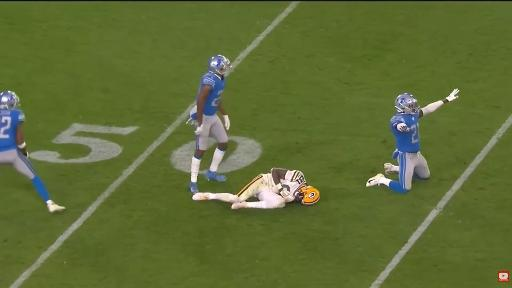Helmet: (395, 94, 419, 114), (295, 186, 319, 205), (209, 55, 231, 75), (0, 91, 19, 109)
Jersey: (196, 72, 225, 115), (390, 114, 420, 152), (0, 109, 25, 151), (280, 170, 306, 195)
Player: (367, 89, 458, 193), (0, 91, 65, 212), (187, 55, 231, 193), (193, 168, 319, 209)
